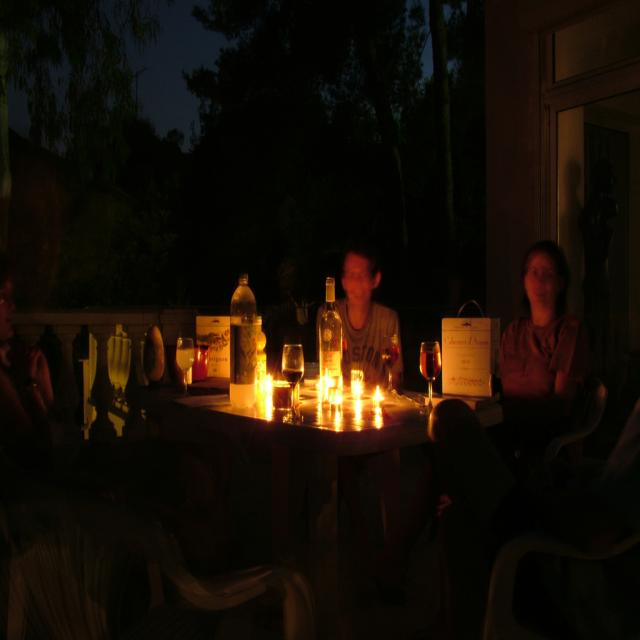Bottle: (218, 246, 265, 416), (316, 270, 362, 432)
Cup: (286, 340, 311, 423), (422, 321, 446, 403), (169, 330, 194, 404)
People: (515, 219, 595, 406), (336, 224, 411, 383)
chair: (8, 462, 339, 640)
